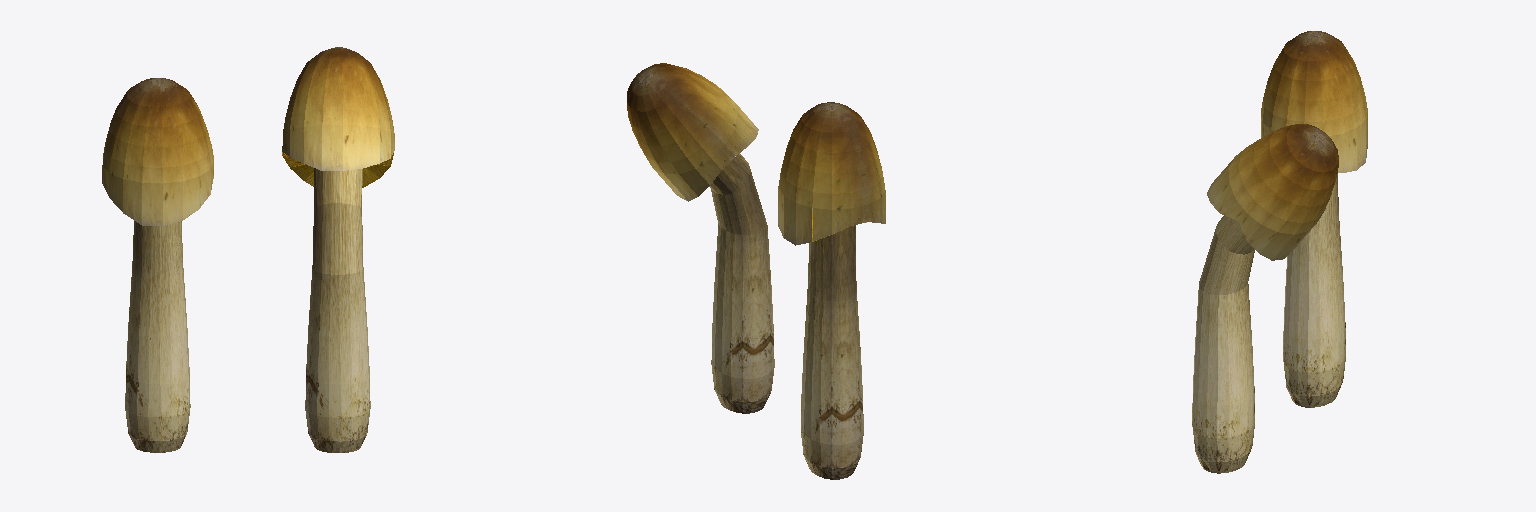
3 renders of one model, left to right at view 1: azimuth 30°, elevation 25°; view 2: azimuth 150°, elevation 25°; view 3: azimuth 270°, elevation 25°, orthographic.
Parts seen in each view (by area): view 1: toadstool1_c_toatstool1_c; view 2: toadstool1_c_toatstool1_c, toadstool1_c_Form6; view 3: toadstool1_c_toatstool1_c.
Part boxes in pixels (x1,y1,x2,y2): toadstool1_c_toatstool1_c: (102,47,394,452); toadstool1_c_toatstool1_c: (627,63,885,479); toadstool1_c_Form6: (813,169,867,240); toadstool1_c_toatstool1_c: (1192,31,1367,473).
Bounding box in the file's own units: 17.67 × 23.8 × 10.4.
1 materials, 1 textured.